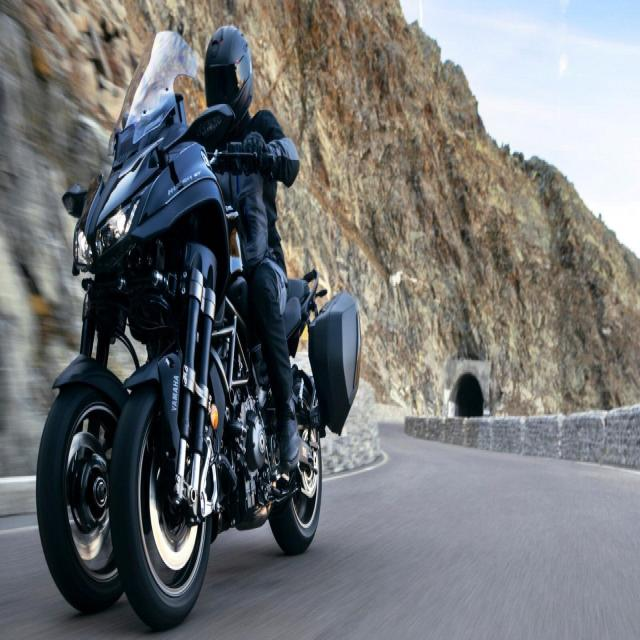Bike: (35, 31, 361, 633)
